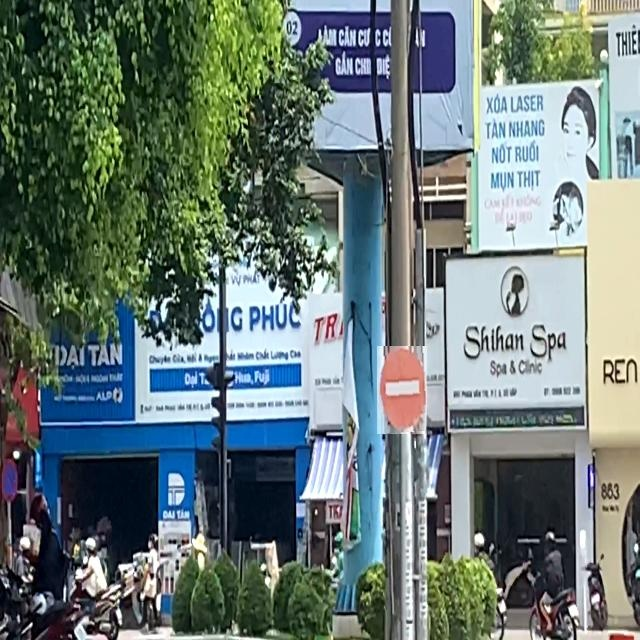bien_cam: (378, 346, 428, 434), (2, 458, 18, 503)
